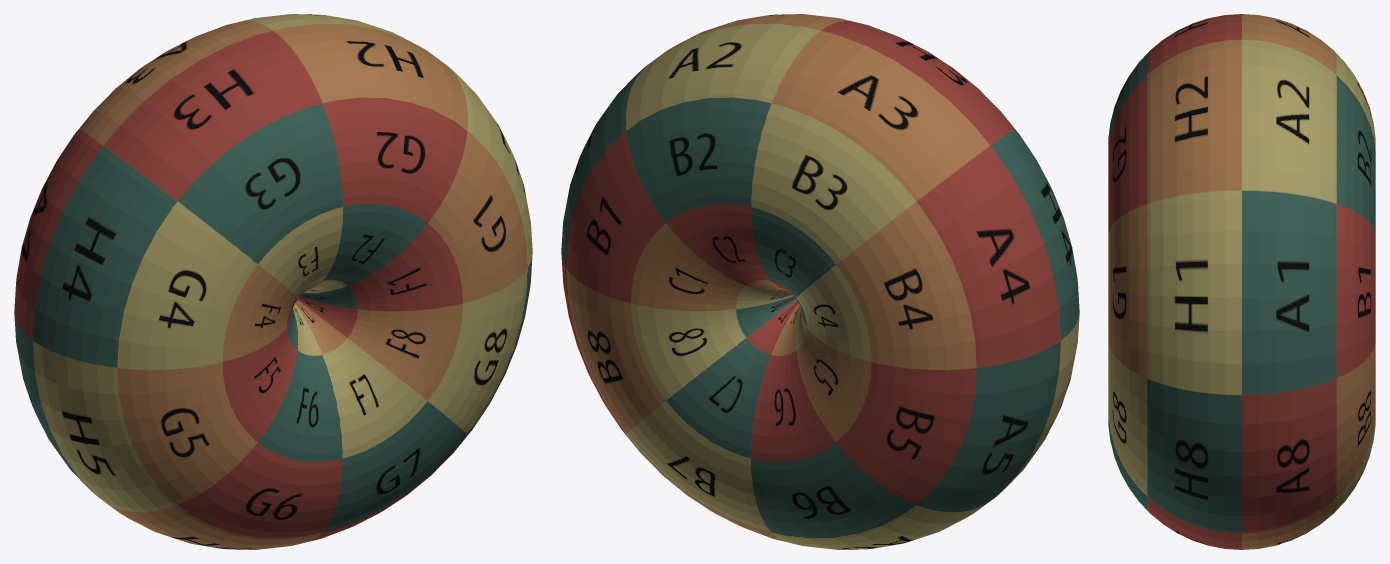
Rendered from texture_torus_R0_r30.glb.
3 views of the same model, side by side, from view 1: azimuth 30°, elevation 25°; view 2: azimuth 150°, elevation 25°; view 3: azimuth 270°, elevation 25° (orthographic). The views are drawn at different scales.
Parts seen in each view (by area): view 1: world; view 2: world; view 3: world.
Boxes of the visible parts, <box> form: world: <box>14,14,532,549</box>; world: <box>561,14,1079,549</box>; world: <box>1108,14,1375,549</box>.
Size of the model in its own units: 20 by 19.96 by 9.98.
1 material, 1 textured.
